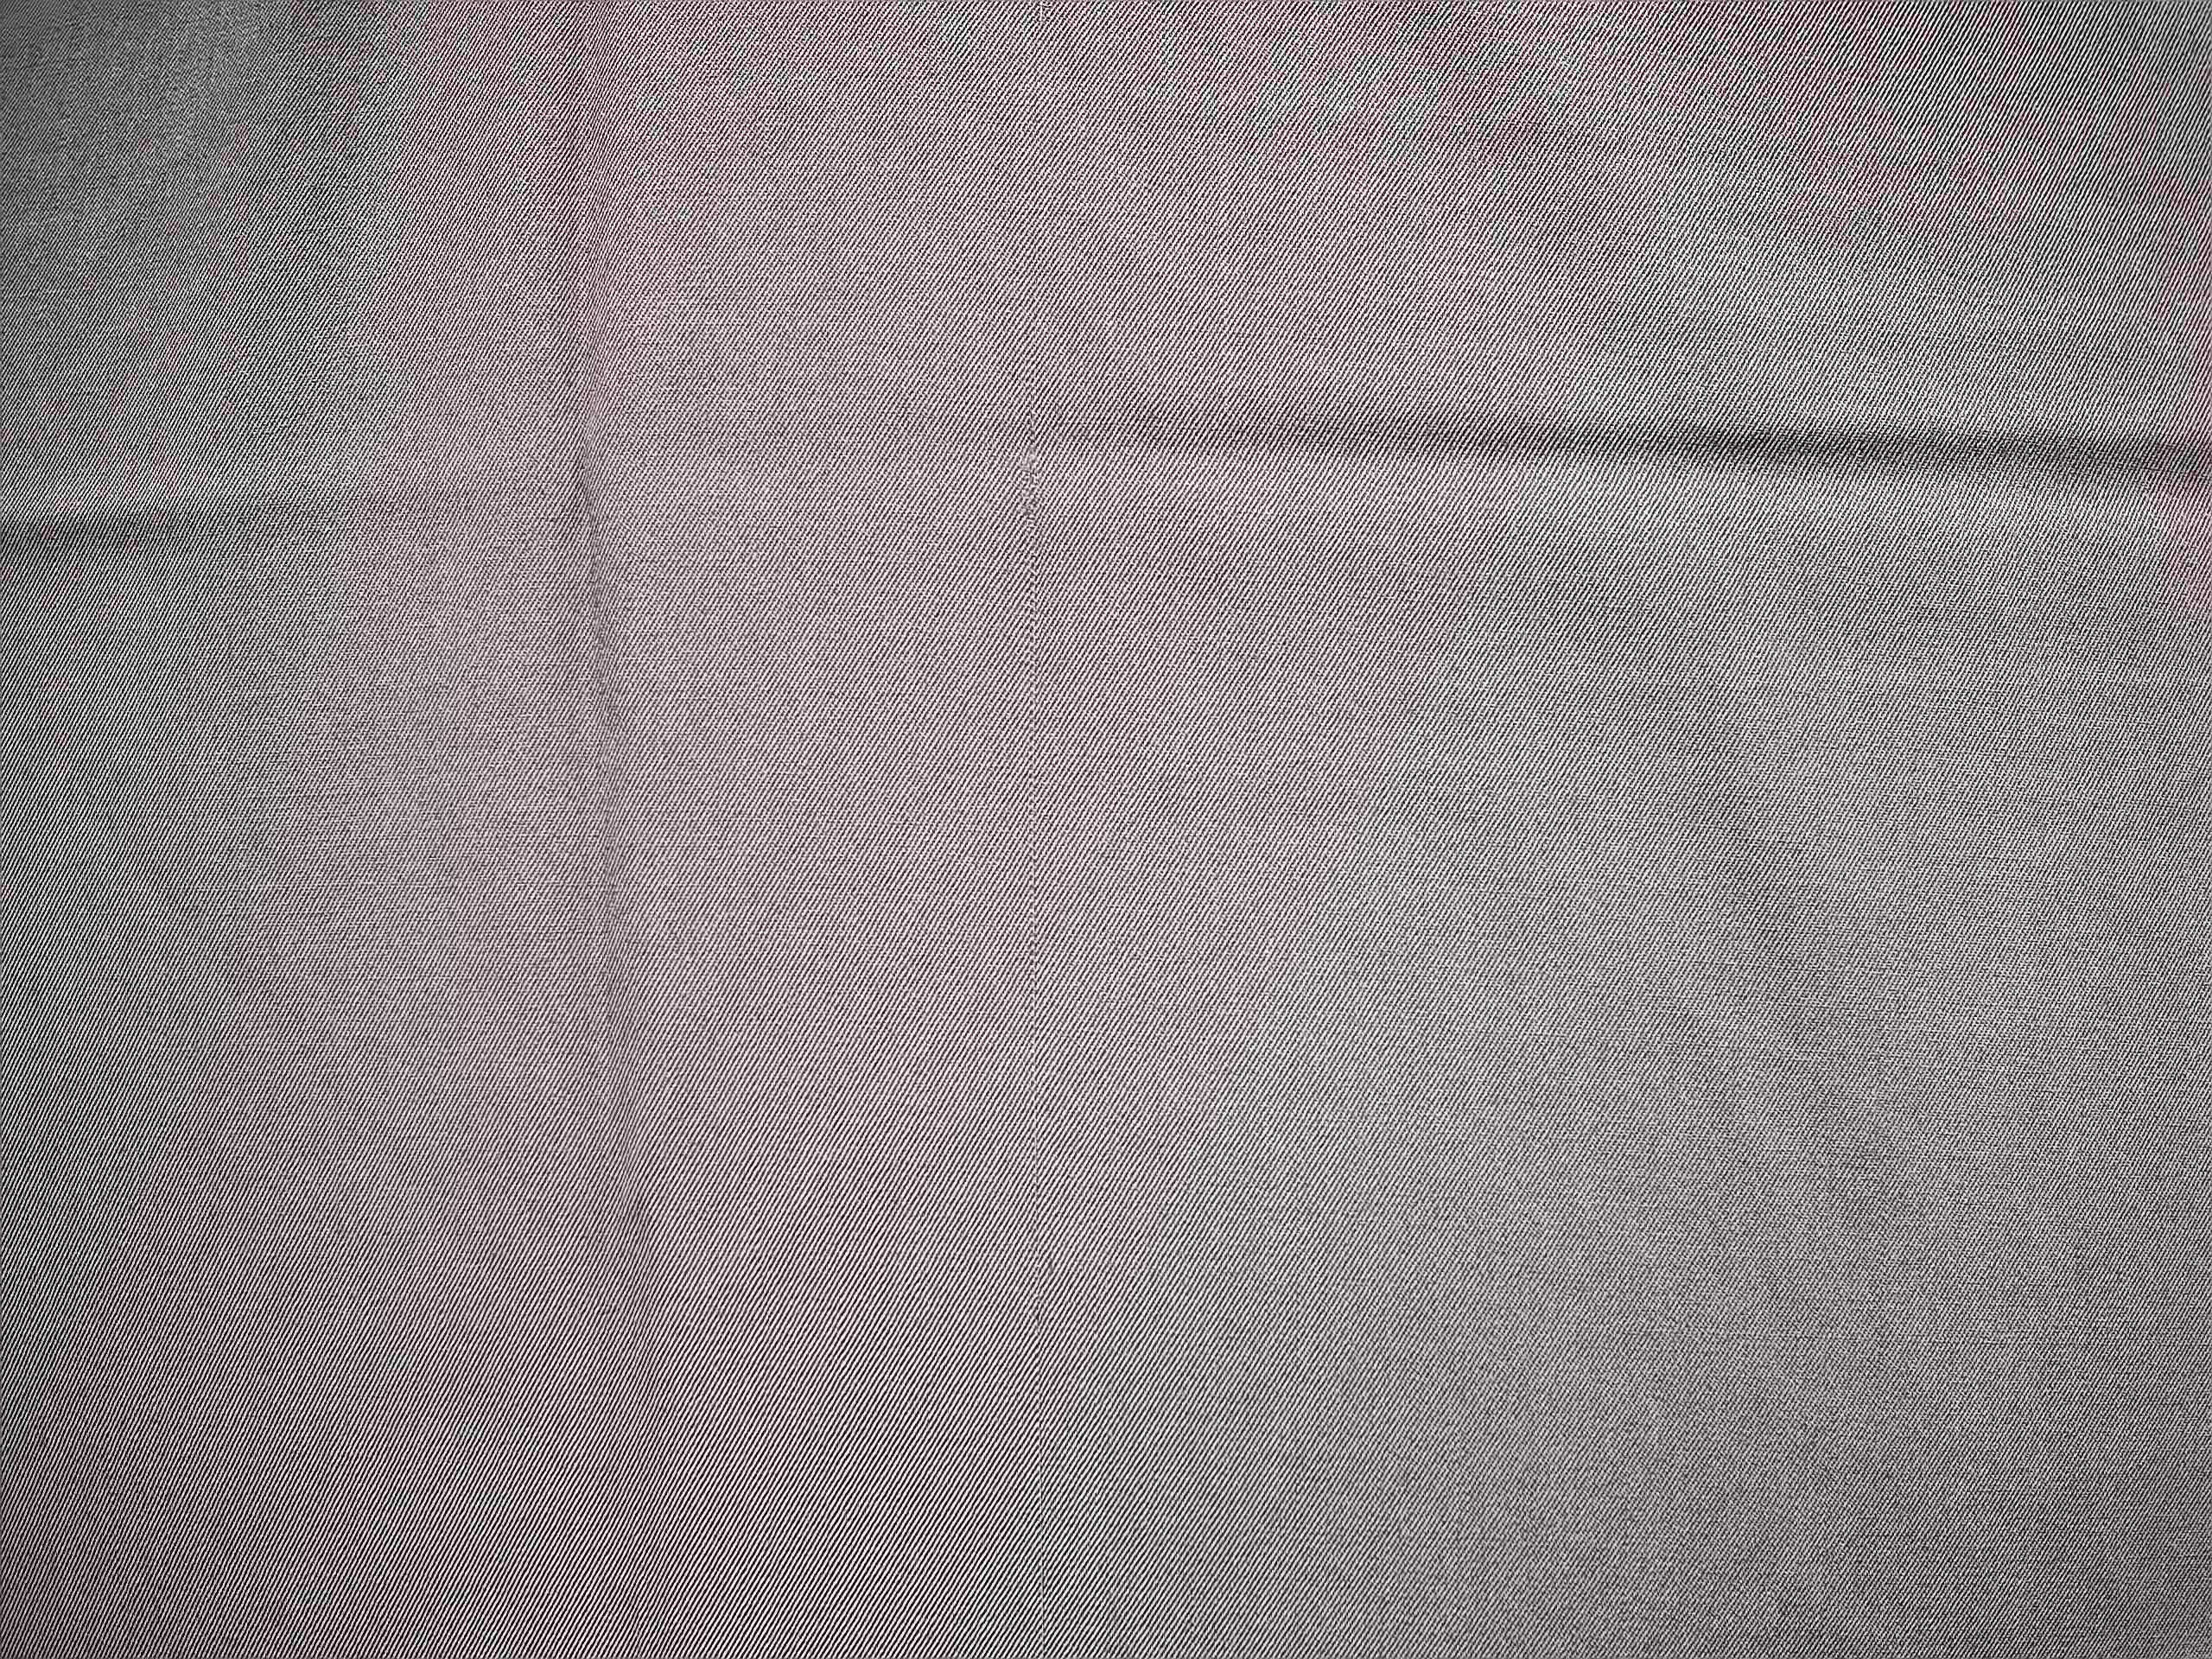hanging-warp: (1003, 333, 1055, 1643)
